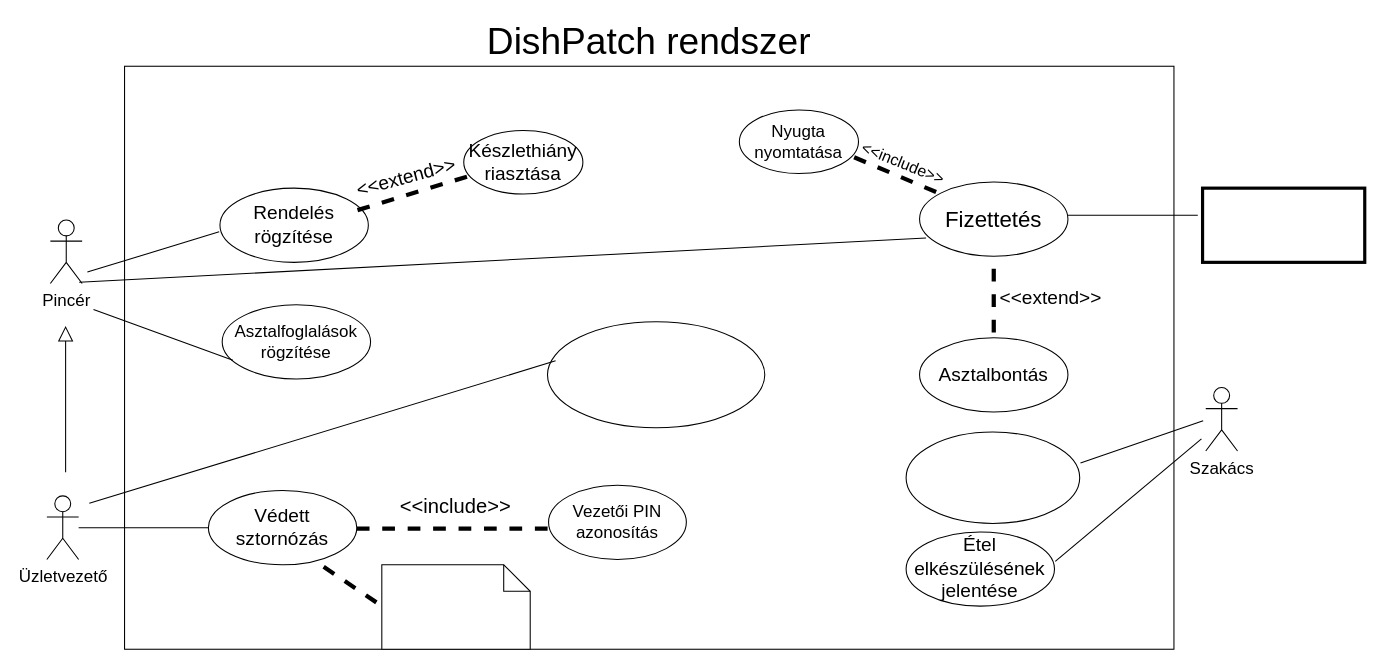
Image size: 1384x668. Some labels were removed from this diagram. The shapes that lost their labels are listed below. From the top down, each one's centre as x and y in pixels, then its label:
At pixel 1283 224: "<<system>> Bankkártya terminál/NAV".
At pixel 655 374: "Raktárkészlet és étlap ellenőrzése".
At pixel 992 477: "Receptúrák megtekintése/Készlethiány jelzése".
At pixel 455 606: "A sztornóhoz PIN szükséges".
